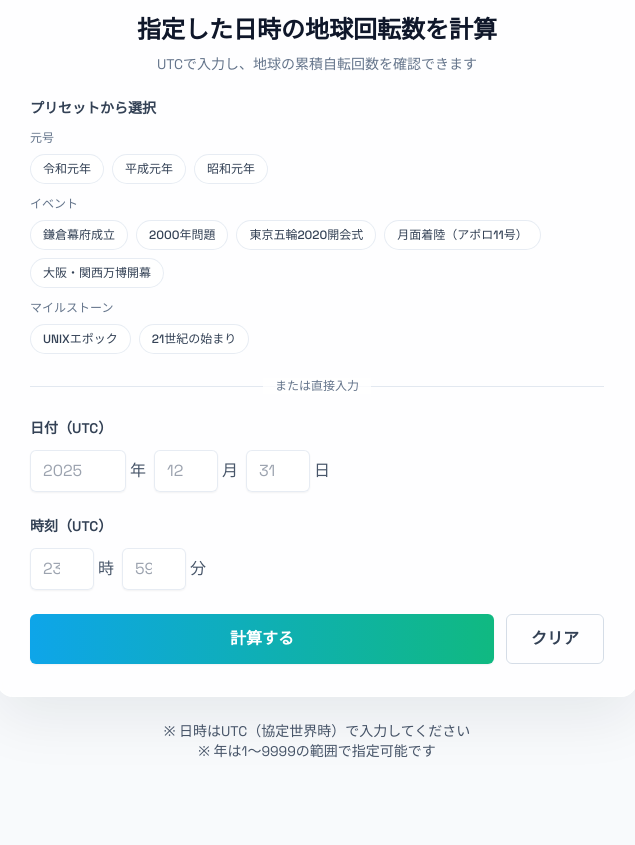
DateTimeInput › クリア機能 › クリアボタンをクリックすると結果とエラーがクリアされること
The image size is (635, 845).
# エラーを発生させる
Click the button "計算する". click: (262, 639)
box: 30,614 -> 494,664
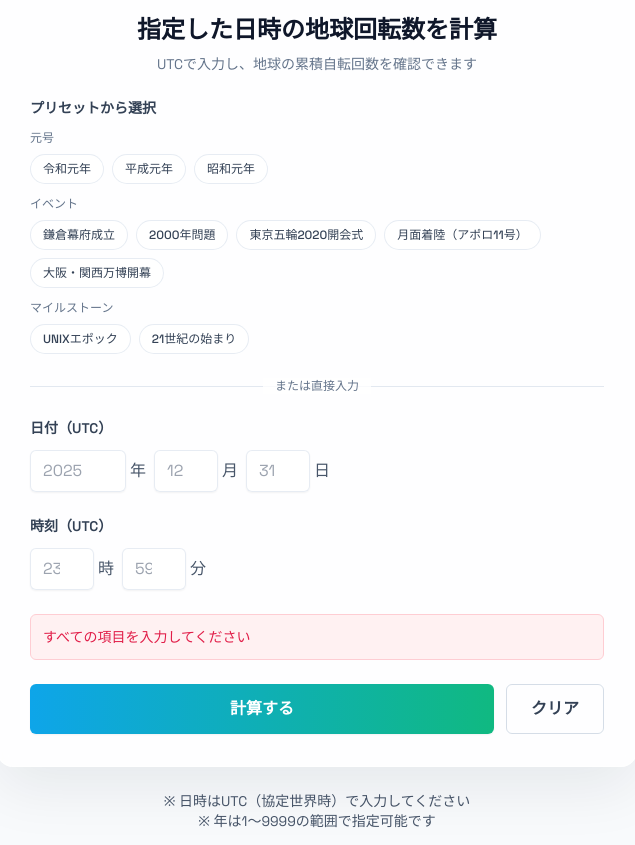
Expected: the text "すべての項目を入力してください" is shown, 43,628 -> 251,646
Click the button "クリア". click: (555, 709)
box: 506,684 -> 604,734
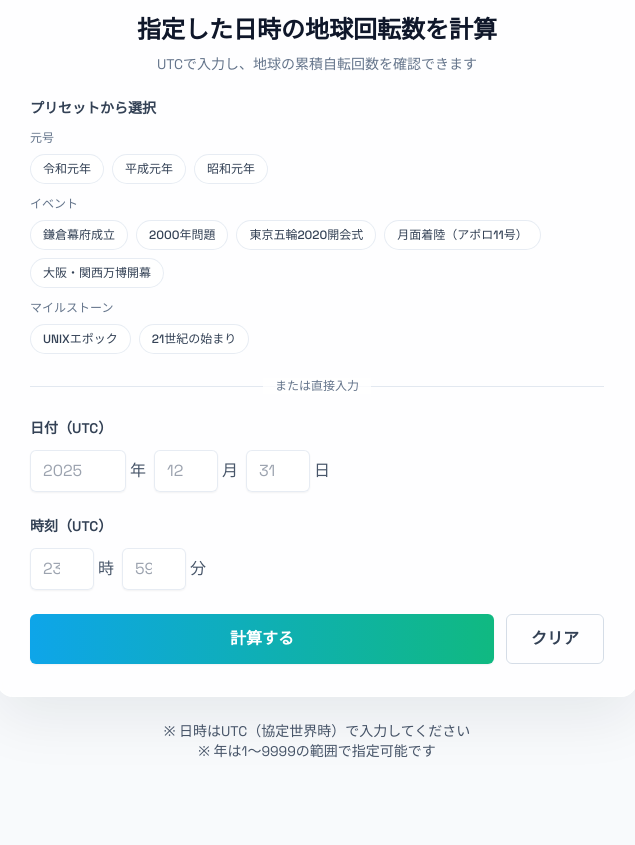
Expected: the text "すべての項目を入力してください" is gone
